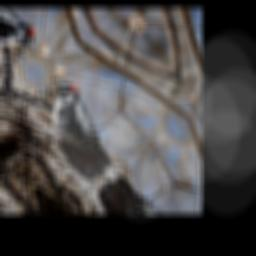Woodpecker: (32, 74, 129, 180)
